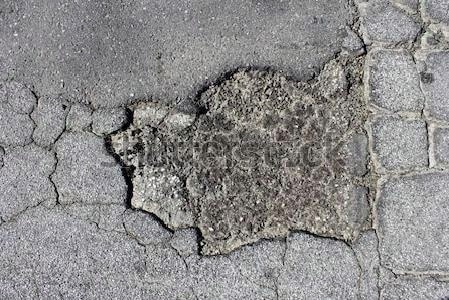pothole: (101, 59, 377, 258)
